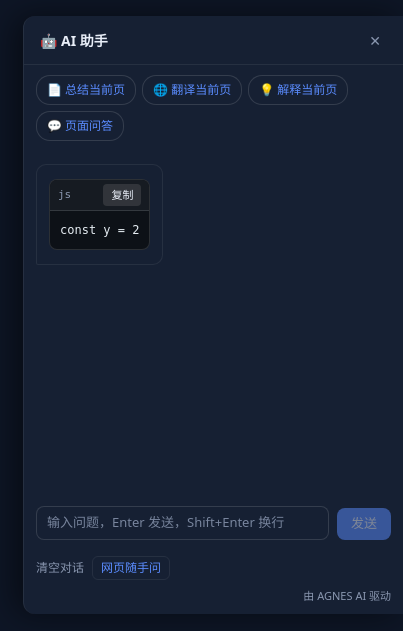
Scenario: AISidebar：消息区 › 复制失败（剪贴板被拒且 execCommand 不可用）反馈"复制失败"
The width and height of the screenshot is (403, 631).
Click the button with class "code-copy" at (122, 195), box top-left (104, 184), bottom-right (142, 206)
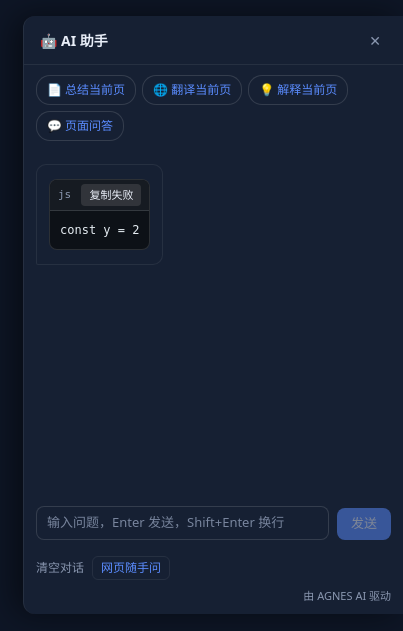
Expected: the button with class "code-copy" reads "复制失败", top-left (82, 184), bottom-right (142, 206)
